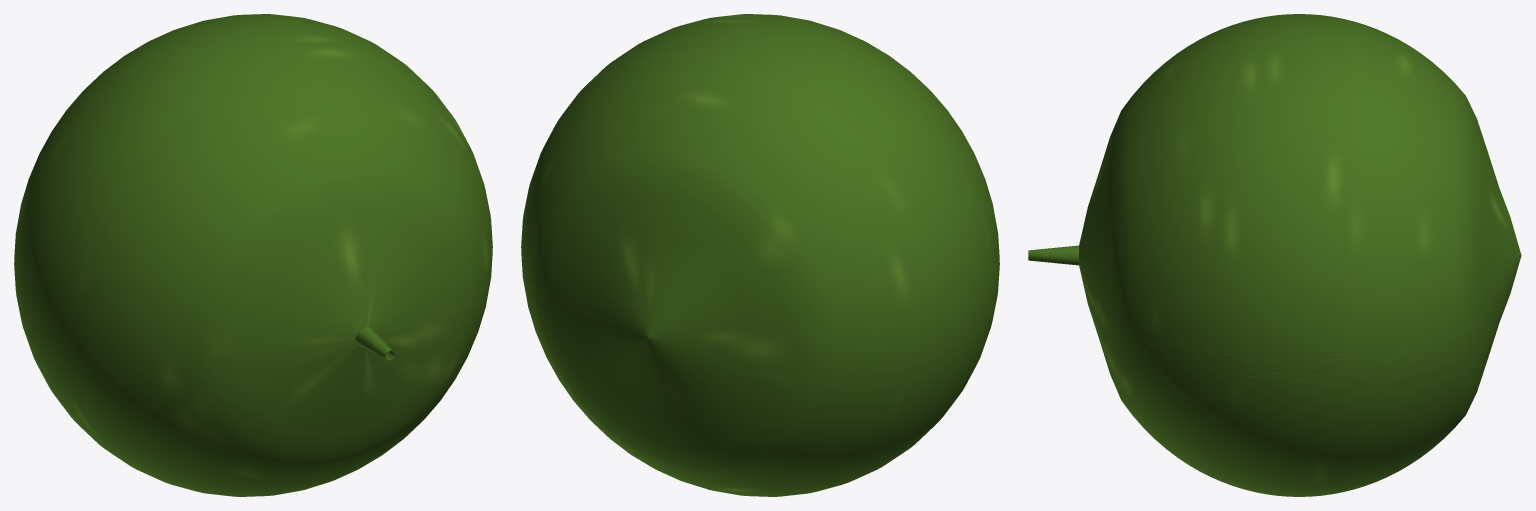
Rendered from apple_09_v2.obj.
3 views of the same model, side by side, from view 1: azimuth 30°, elevation 25°; view 2: azimuth 150°, elevation 25°; view 3: azimuth 270°, elevation 25° (orthographic).
Bounding box in the file's own units: 2 × 2 × 2.04.
1 material, 1 textured.
